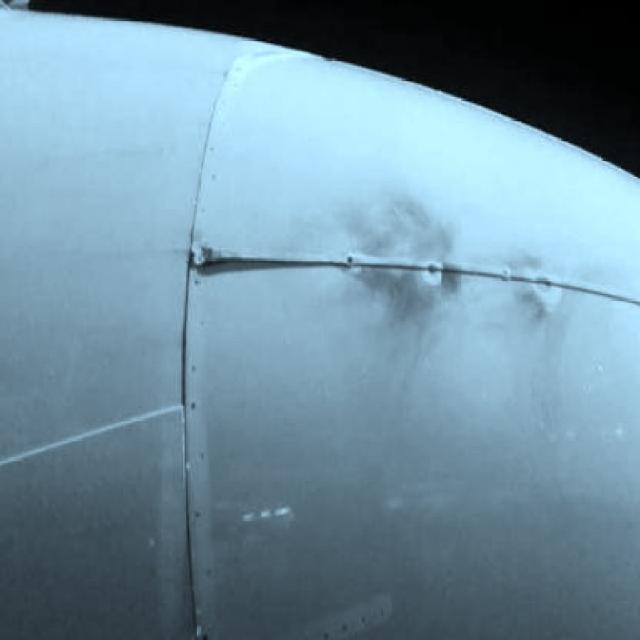crack: (191, 251, 337, 270)
